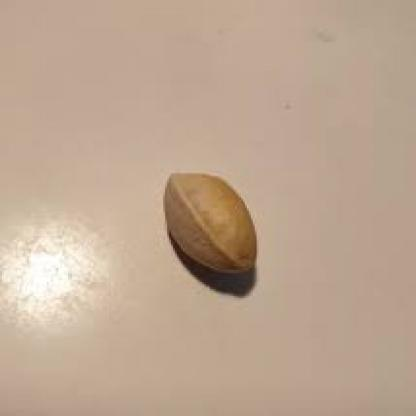pistachio: (159, 170, 271, 284)
